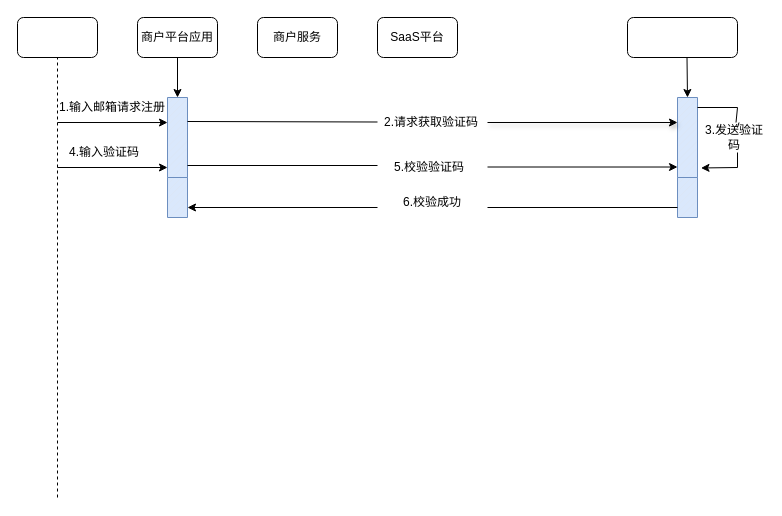
Some shapes in this 782 by 516 pixel diagram are drawn without their labels. The shapes that lost their labels are listed below. From the top down, each one's centre as x and y in pixels, then its label:
At [57,37]: "浏览器".
At [682,37]: "验证码服务".
